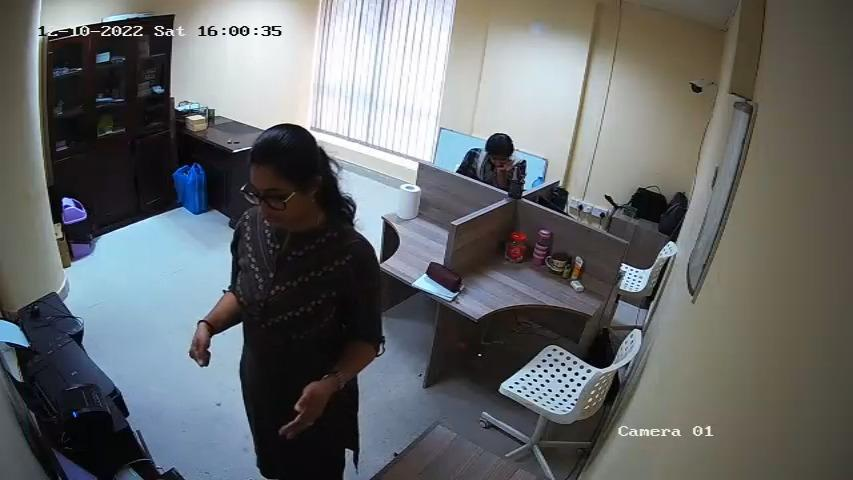no_gloves: (271, 376, 342, 444), (181, 318, 215, 368), (351, 284, 355, 285)
